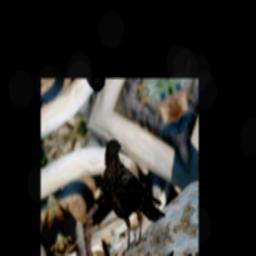Crow: (92, 118, 169, 256)
